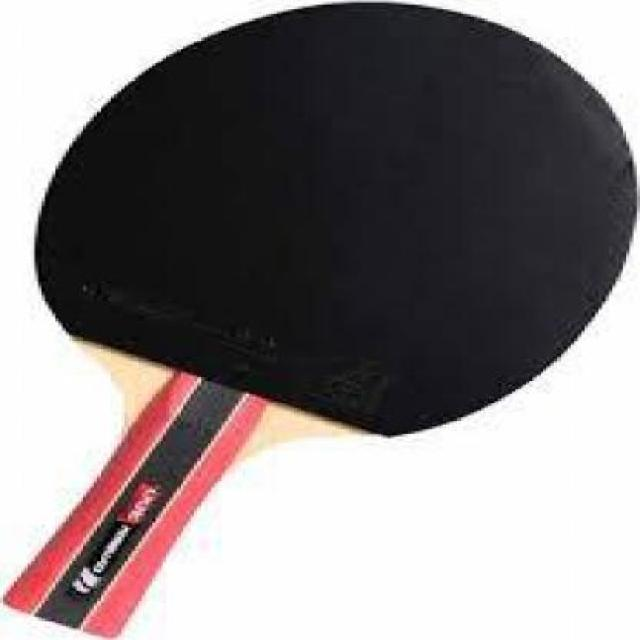table_tennis_racket: (35, 1, 640, 448)
